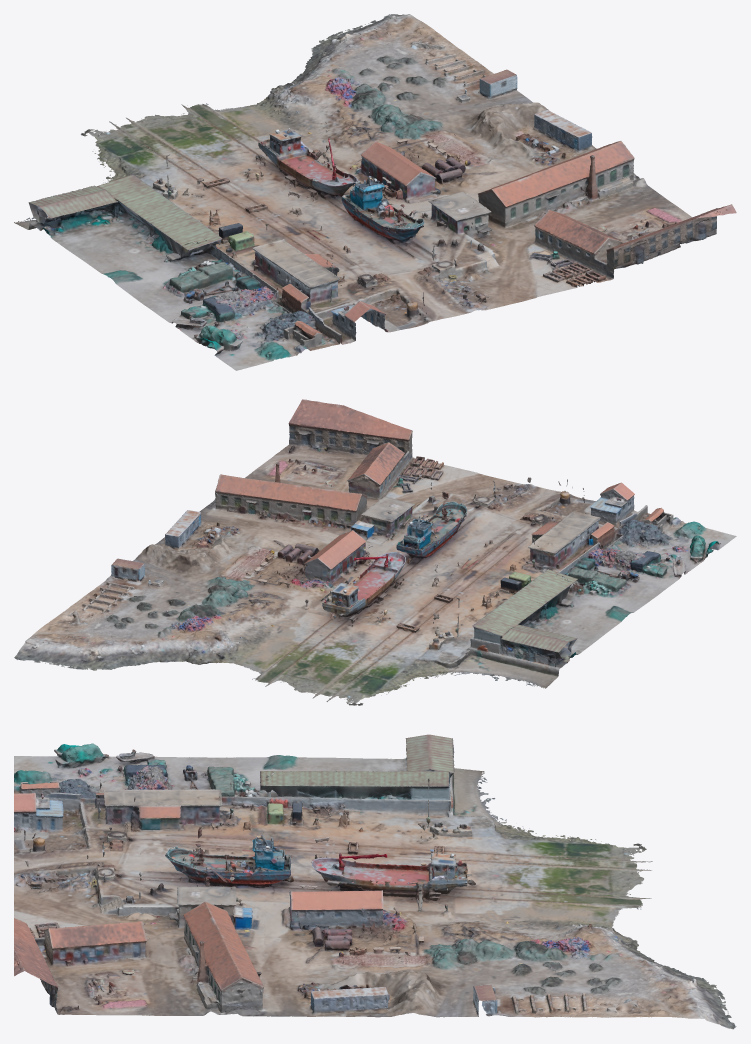
File: shipyard_wharf_fishing_boat_fishingport.glb
The picture shows the model from 3 angles, top to bottom: view 1: azimuth 30°, elevation 25°; view 2: azimuth 150°, elevation 25°; view 3: azimuth 270°, elevation 25°; orthographic projection. The views are drawn at different scales.
Visible parts, largest first — view 1: Object_3, Object_7, Object_8, Object_5, Object_11, Object_4, Object_9, Object_6, Object_10, Object_12, Object_13; view 2: Object_3, Object_7, Object_8, Object_4, Object_5, Object_11, Object_6, Object_9, Object_10, Object_12, Object_13; view 3: Object_7, Object_3, Object_11, Object_8, Object_9, Object_4, Object_5, Object_6, Object_10, Object_12, Object_13.
Part boxes in pixels (<box>): Object_3: <box>14,14,736,370</box>; Object_7: <box>98,91,592,259</box>; Object_8: <box>91,92,613,255</box>; Object_5: <box>138,30,566,332</box>; Object_11: <box>138,100,608,307</box>; Object_4: <box>130,25,591,335</box>; Object_9: <box>50,101,733,339</box>; Object_6: <box>171,29,662,357</box>; Object_10: <box>17,14,593,343</box>; Object_12: <box>68,96,591,366</box>; Object_13: <box>47,70,589,253</box>; Object_3: <box>14,399,736,705</box>; Object_7: <box>136,488,584,699</box>; Object_8: <box>111,466,533,701</box>; Object_4: <box>41,494,694,668</box>; Object_5: <box>62,508,685,667</box>; Object_11: <box>151,474,605,610</box>; Object_6: <box>63,413,531,668</box>; Object_9: <box>167,401,616,674</box>; Object_10: <box>17,477,636,688</box>; Object_12: <box>142,506,728,680</box>; Object_13: <box>113,428,514,676</box>; Object_7: <box>100,771,641,1016</box>; Object_3: <box>14,734,736,1029</box>; Object_11: <box>99,771,384,981</box>; Object_8: <box>129,779,641,1014</box>; Object_9: <box>14,744,501,1015</box>; Object_4: <box>14,756,667,1017</box>; Object_5: <box>113,749,715,1016</box>; Object_6: <box>14,780,715,1016</box>; Object_10: <box>14,737,733,1027</box>; Object_12: <box>14,743,638,1016</box>; Object_13: <box>240,778,622,1013</box>.
Bounding box in the file's own units: 293 × 39.31 × 346.
Materials: 1 (1 with a texture image).
